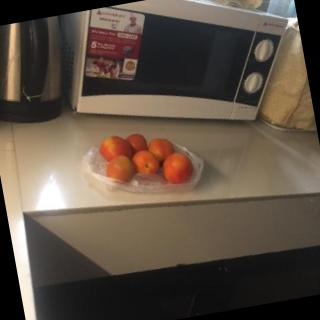Tomat: (88, 113, 206, 201)
